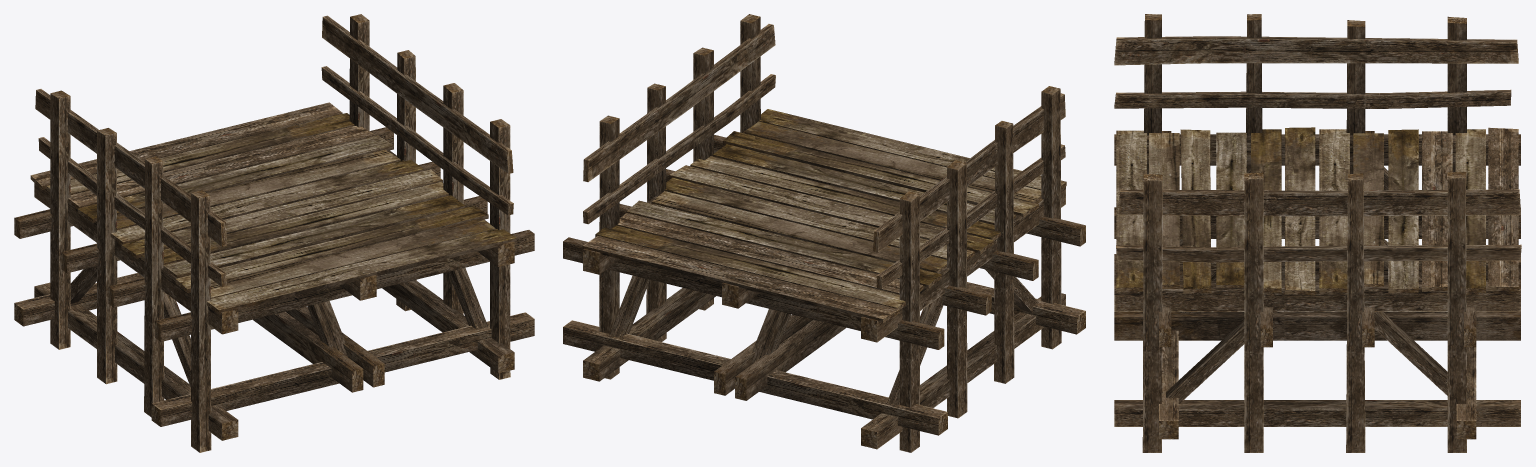
File: WoodBridge.dae
3 renders of one model, left to right at view 1: azimuth 30°, elevation 25°; view 2: azimuth 150°, elevation 25°; view 3: azimuth 270°, elevation 25°, orthographic. The views are drawn at different scales.
Parts seen in each view (by area): view 1: WoodBridge; view 2: WoodBridge; view 3: WoodBridge.
Part boxes in pixels (left/top/right/bottom): WoodBridge: left=14, top=14, right=534, bottom=452; WoodBridge: left=563, top=14, right=1085, bottom=452; WoodBridge: left=1114, top=14, right=1521, bottom=452.
Size of what is drawn, in the model's own units: 4.6 by 2.99 by 4.01.
1 material, 1 textured.
